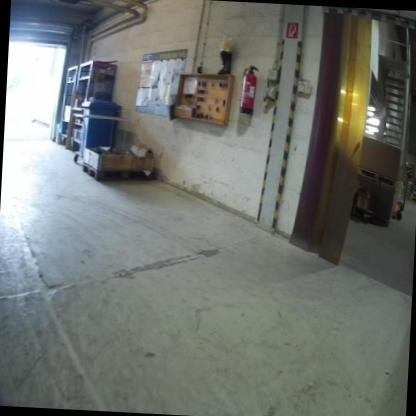pallet: (81, 161, 154, 185), (356, 166, 397, 190)
pallet_truck: (389, 162, 414, 225)
